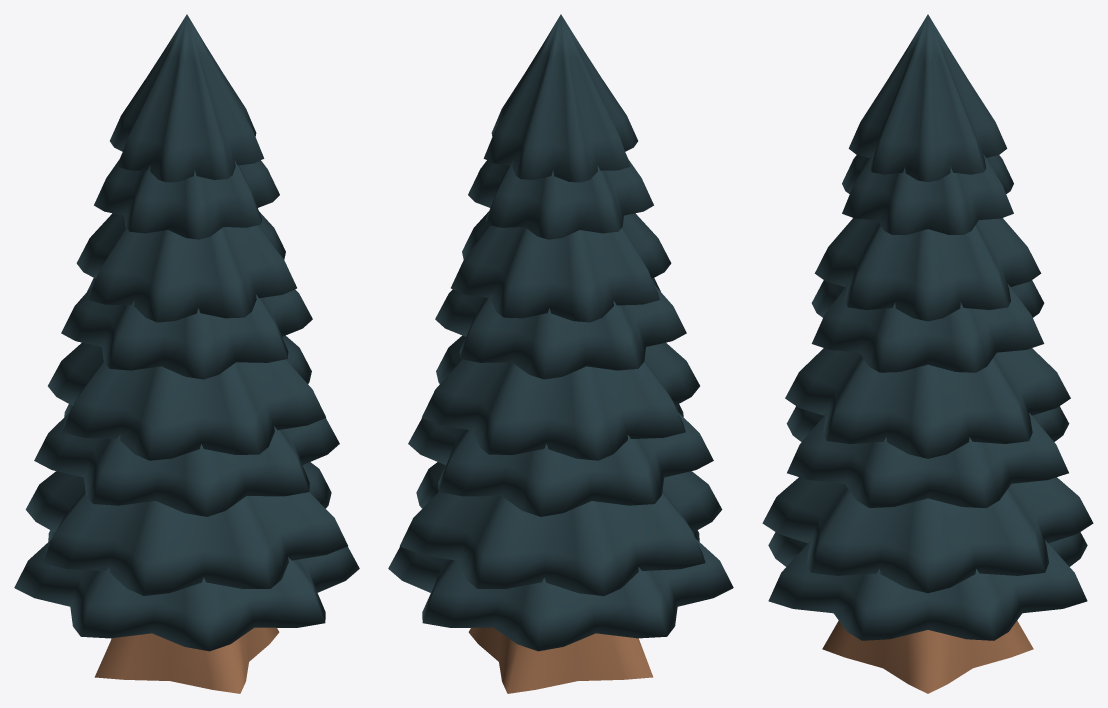
The model's file is TreeAnim.fbx.
The picture shows the model from 3 angles, left to right: view 1: azimuth 30°, elevation 25°; view 2: azimuth 150°, elevation 25°; view 3: azimuth 270°, elevation 25°; orthographic projection.
Visible parts, largest first — view 1: Basetree; view 2: Basetree; view 3: Basetree.
Part boxes in pixels (x1=…): Basetree: x1=14, y1=14, x2=359, y2=693; Basetree: x1=388, y1=14, x2=733, y2=693; Basetree: x1=762, y1=14, x2=1093, y2=693.
Bounding box in the file's own units: 0.0272 × 0.0575 × 0.0272.
